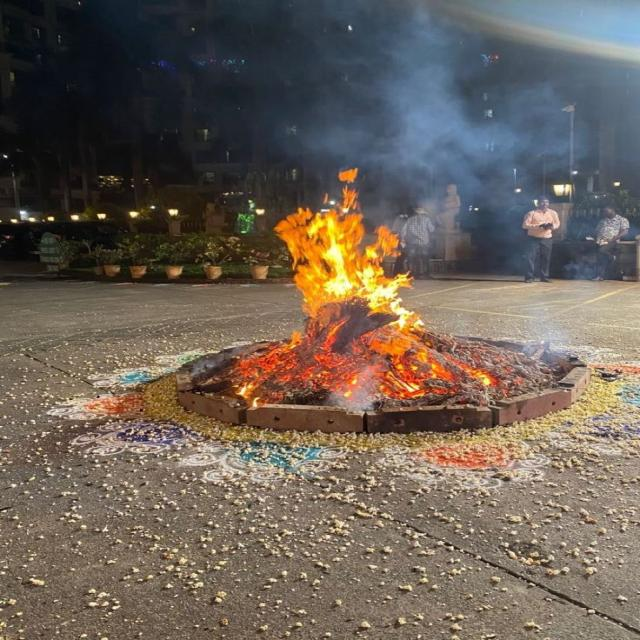fire: (274, 167, 426, 328), (228, 330, 489, 403)
